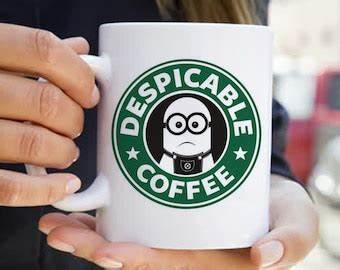starbucks Fake: (106, 51, 268, 213)
